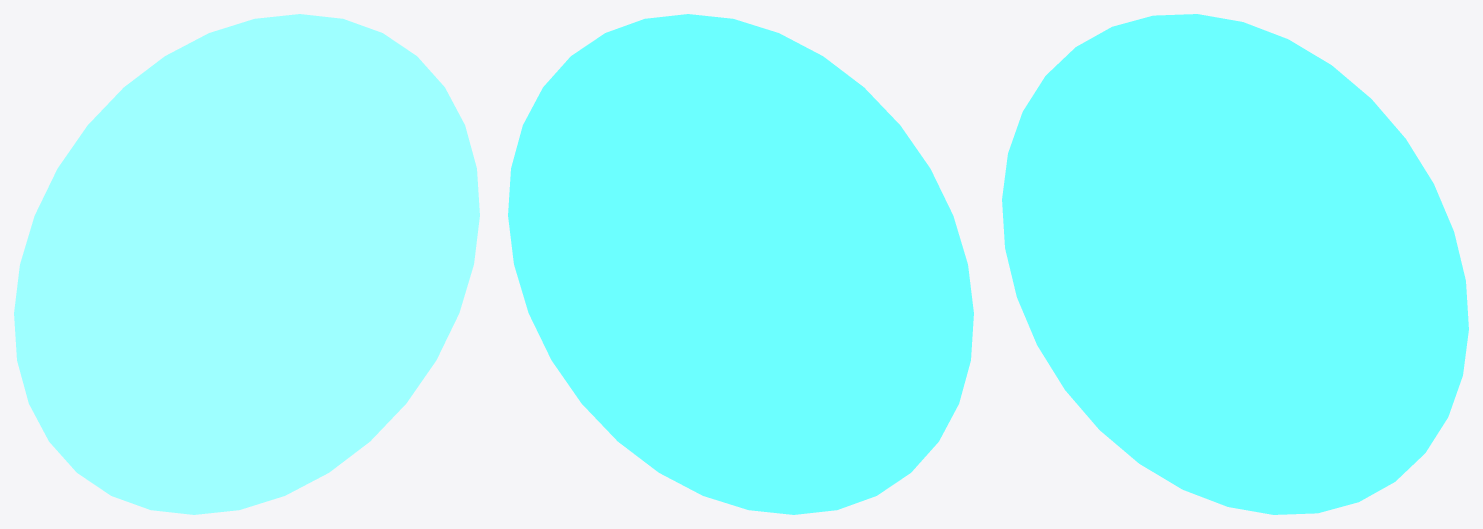
The model's file is portal.fbx.
3 views of the same model, side by side, from view 1: azimuth 30°, elevation 25°; view 2: azimuth 150°, elevation 25°; view 3: azimuth 330°, elevation 25° (orthographic).
Visible parts, largest first — view 1: portal; view 2: portal; view 3: portal.
Part boxes in pixels (x1=…): portal: x1=14, y1=14, x2=479, y2=514; portal: x1=508, y1=14, x2=973, y2=514; portal: x1=1002, y1=14, x2=1468, y2=514.
Bounding box in the file's own units: 395 × 395 × 0.000168.
